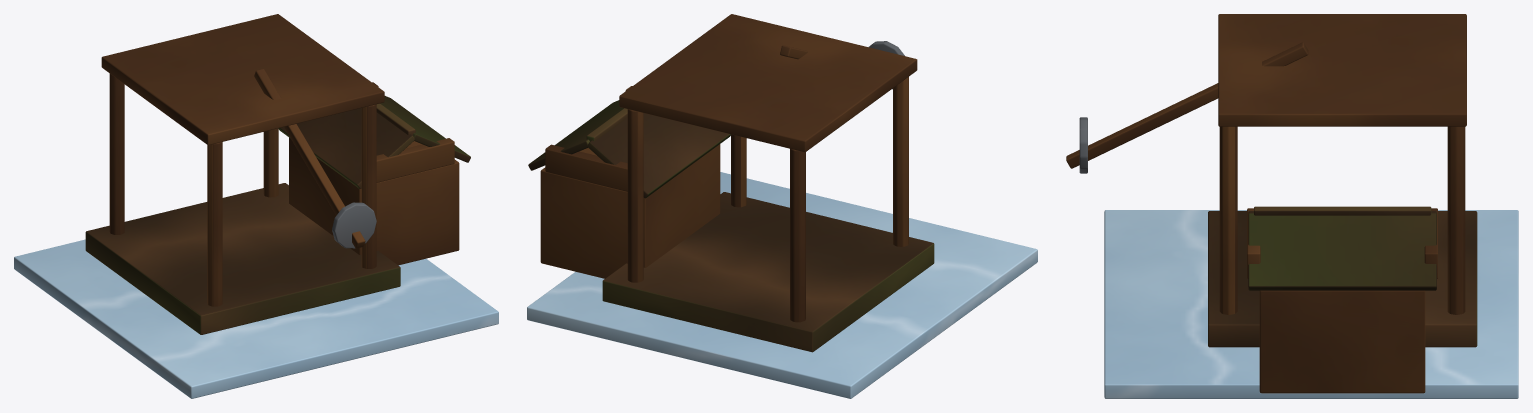
Rendered from building_outcast_mine.fbx.
The picture shows the model from 3 angles, left to right: view 1: azimuth 30°, elevation 25°; view 2: azimuth 150°, elevation 25°; view 3: azimuth 270°, elevation 25°; orthographic projection. The views are drawn at different scales.
Parts seen in each view (by area): view 1: building_outcast_mine; view 2: building_outcast_mine; view 3: building_outcast_mine.
Boxes of the visible parts, x1=… form: building_outcast_mine: x1=14, y1=14, x2=498, y2=398; building_outcast_mine: x1=527, y1=14, x2=1037, y2=398; building_outcast_mine: x1=1066, y1=14, x2=1518, y2=398.
Bounding box in the file's own units: 8.88 × 5.71 × 8.74.
